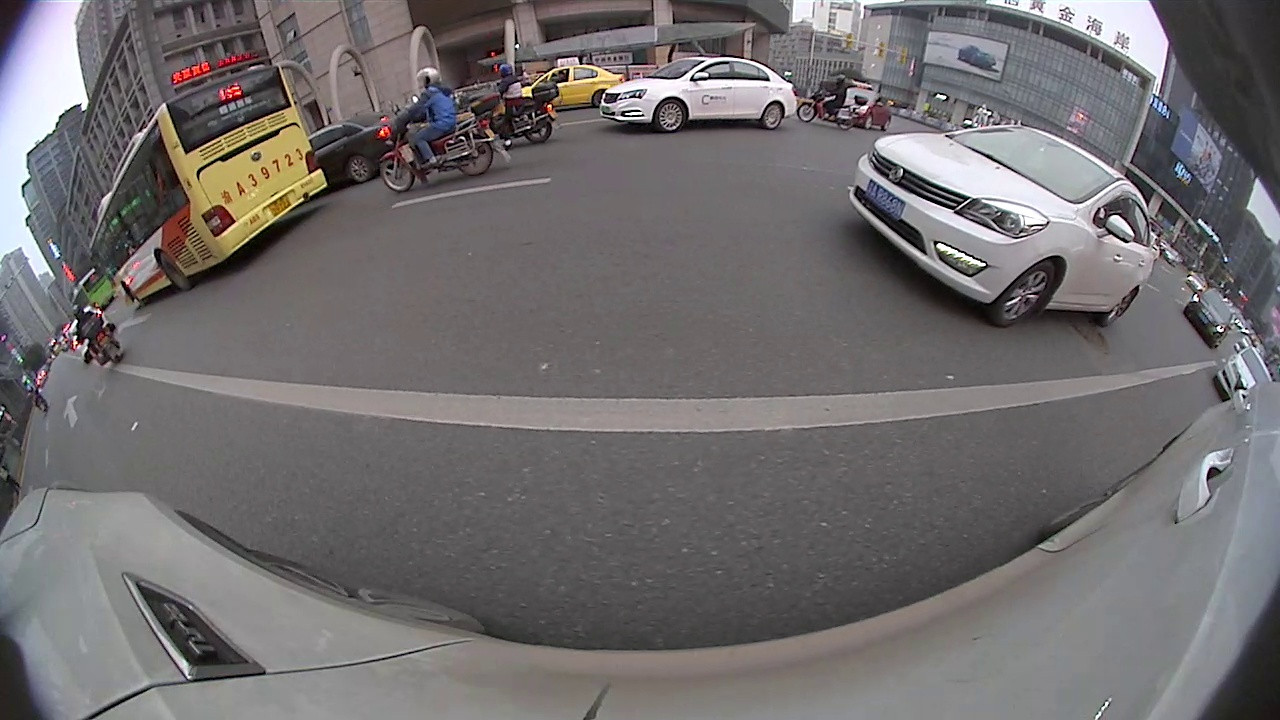bus: (89, 49, 332, 311)
car: (843, 123, 1154, 334), (602, 51, 794, 141), (1214, 347, 1279, 410), (1184, 288, 1239, 344)
front: (988, 257, 1055, 330), (379, 152, 419, 193), (654, 97, 689, 135), (798, 100, 819, 124)
rear: (1099, 287, 1136, 332), (455, 140, 495, 178), (156, 248, 192, 290), (522, 119, 554, 147), (347, 154, 374, 186), (761, 100, 784, 133)
rider: (379, 69, 503, 192), (479, 74, 559, 152), (69, 302, 127, 374), (798, 73, 870, 130)
